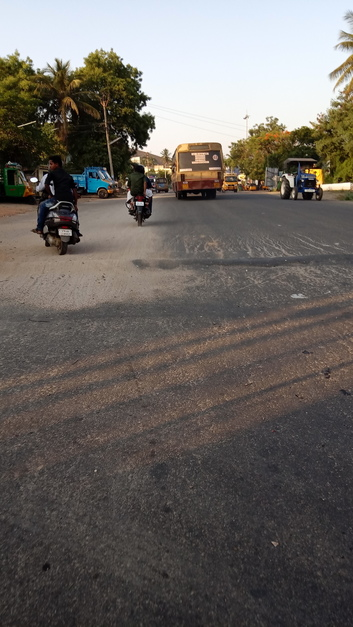bump: (1, 254, 353, 273)
